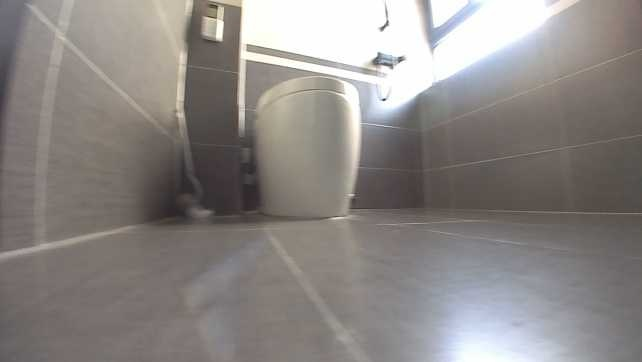toilet: (246, 69, 365, 220)
